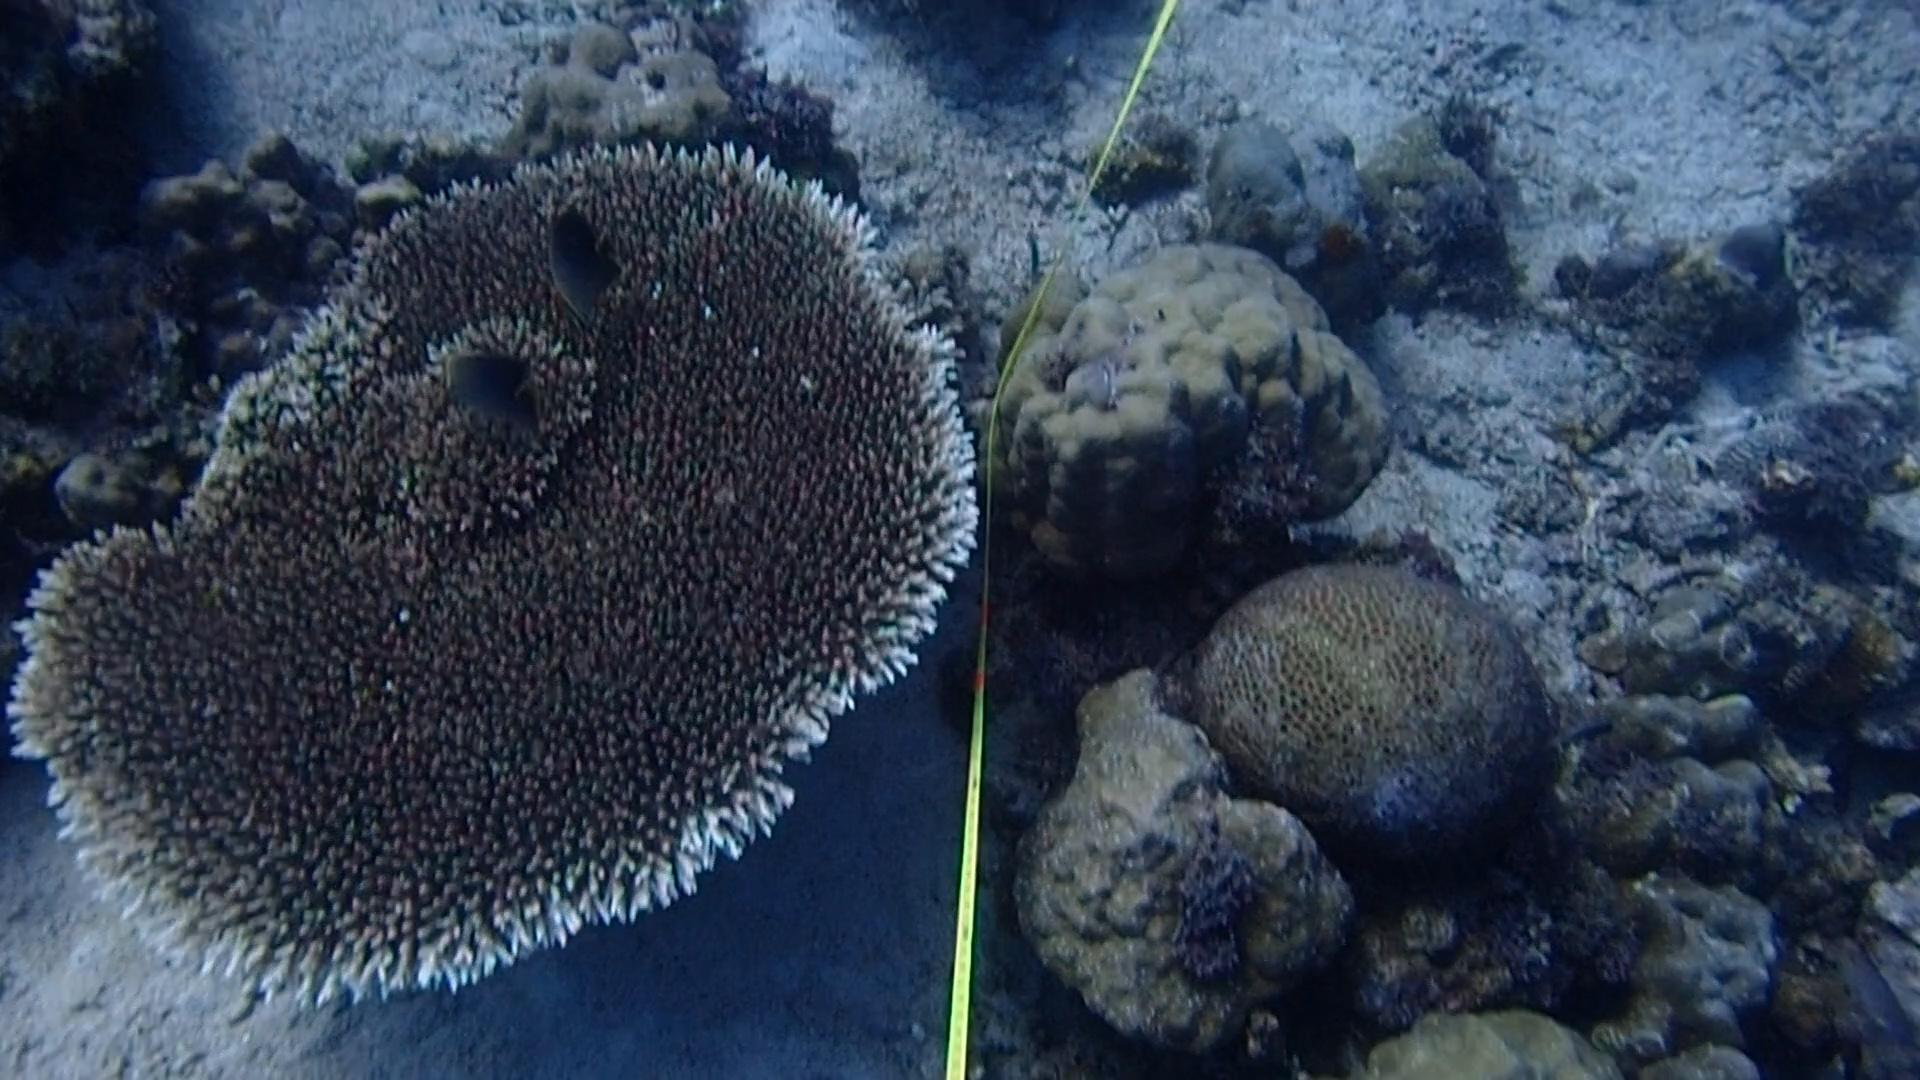Dark Blue Dory: (516, 196, 642, 327), (423, 344, 567, 452)
Light Fish: (1557, 700, 1626, 762)
